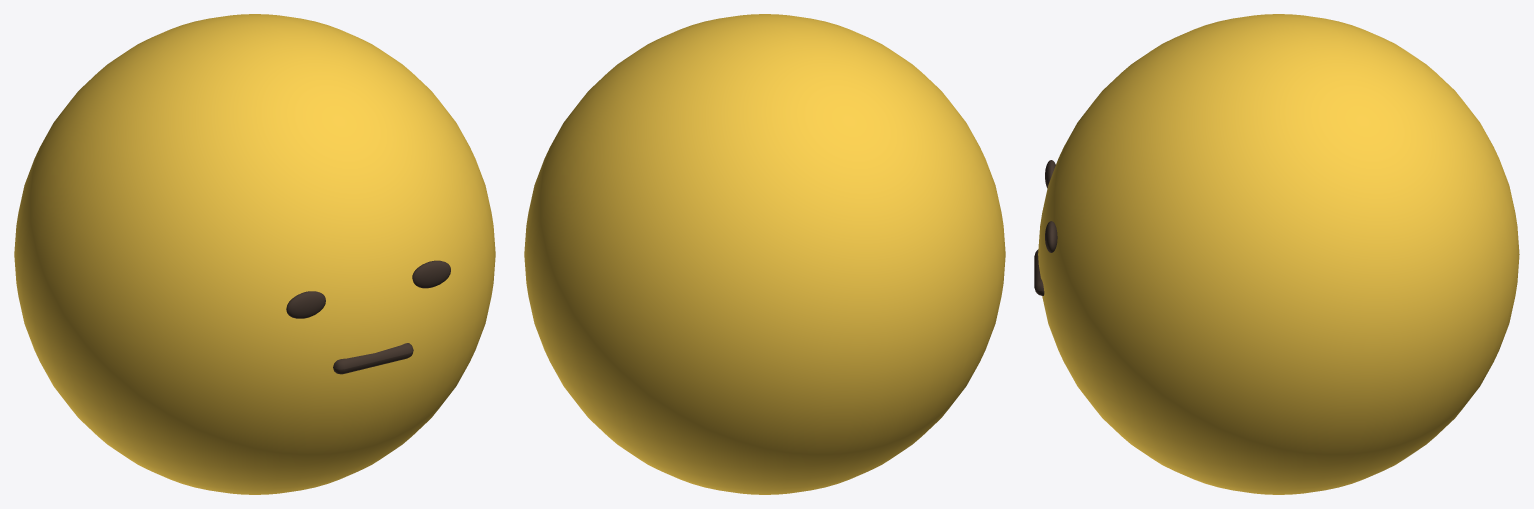
The model's file is ceramic.glb.
3 renders of one model, left to right at view 1: azimuth 30°, elevation 25°; view 2: azimuth 150°, elevation 25°; view 3: azimuth 270°, elevation 25°, orthographic.
Parts seen in each view (by area): view 1: wakppu_ceramic, mouth, eye, eye.001; view 2: wakppu_ceramic; view 3: wakppu_ceramic.
Part boxes in pixels (x1,y1,x2,y2): wakppu_ceramic: (14, 14, 495, 494); mouth: (333, 343, 413, 374); eye: (286, 291, 325, 318); eye.001: (412, 260, 450, 288); wakppu_ceramic: (524, 14, 1005, 494); wakppu_ceramic: (1038, 14, 1519, 494).
Bounding box in the file's own units: 2 × 2 × 2.02.
